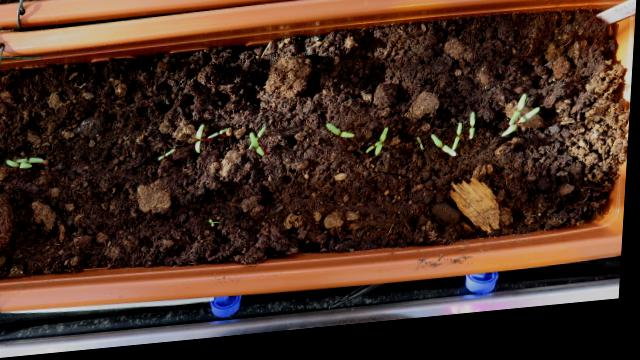crop: (323, 125, 360, 147), (190, 124, 209, 160), (465, 118, 481, 150), (154, 149, 181, 165)
